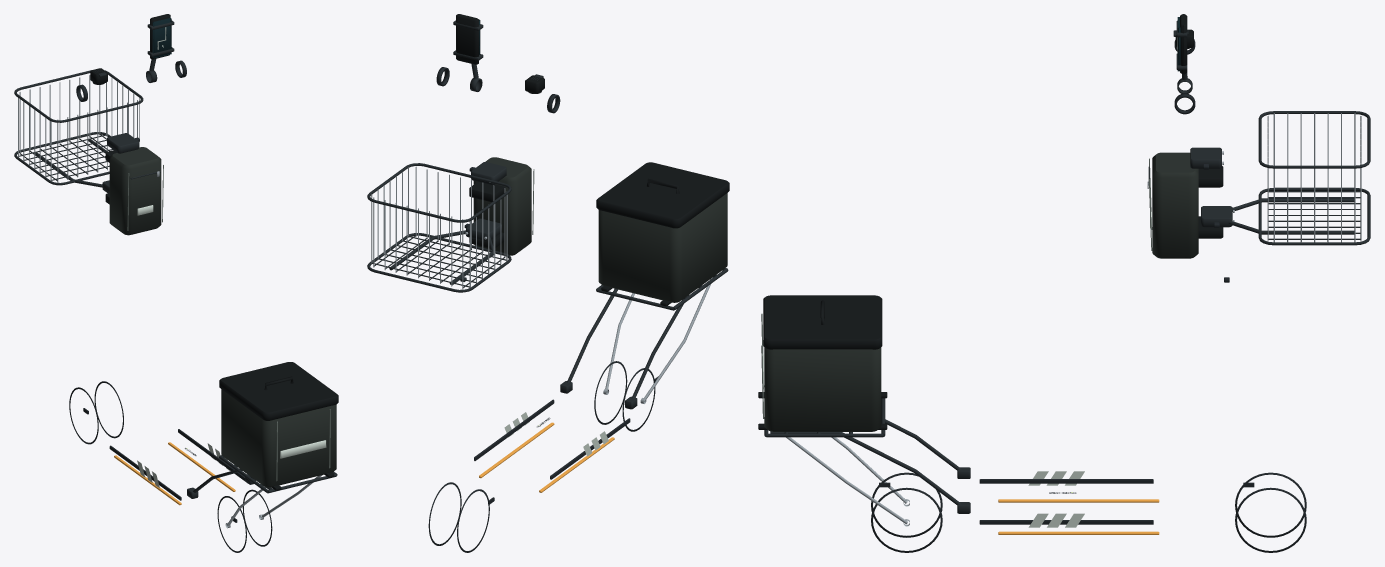
The model's file is extras.glb.
The picture shows the model from 3 angles, left to right: view 1: azimuth 30°, elevation 25°; view 2: azimuth 150°, elevation 25°; view 3: azimuth 270°, elevation 25°; orthographic projection. The views are drawn at different scales.
Visible parts, largest first — view 1: SX_delivery, SX_basket, SX_stem_bag, SX_rack, SX_phone_mount, SX_trim_black_deck, SX_light_amber, SX_trim_black_front, SX_trim_black_rear; view 2: SX_delivery, SX_basket, SX_stem_bag, SX_rack, SX_phone_mount, SX_trim_black_deck, SX_light_amber, SX_trim_black_front, SX_trim_black_rear, SX_trim_black_grip; view 3: SX_delivery, SX_basket, SX_stem_bag, SX_rack, SX_trim_black_deck, SX_light_amber, SX_trim_black_front, SX_trim_black_rear, SX_stripes, SX_phone_mount.
Part boxes in pixels (box(x1,y1,x2,y2)): SX_delivery: box(219, 362, 338, 490); SX_basket: box(14, 70, 143, 194); SX_stem_bag: box(105, 147, 163, 235); SX_rack: box(187, 455, 337, 528); SX_phone_mount: box(146, 14, 174, 82); SX_trim_black_deck: box(83, 408, 244, 522); SX_light_amber: box(114, 442, 235, 505); SX_trim_black_front: box(69, 381, 123, 444); SX_trim_black_rear: box(217, 489, 272, 552); SX_delivery: box(596, 162, 729, 306); SX_basket: box(367, 162, 511, 292); SX_stem_bag: box(469, 157, 534, 255); SX_rack: box(560, 268, 728, 409); SX_phone_mount: box(453, 14, 483, 91); SX_trim_black_deck: box(474, 376, 658, 504); SX_light_amber: box(479, 422, 614, 492); SX_trim_black_front: box(428, 482, 489, 552); SX_trim_black_rear: box(594, 361, 655, 431); SX_trim_black_grip: box(436, 67, 560, 281); SX_delivery: box(758, 295, 887, 431); SX_basket: box(1190, 111, 1370, 245); SX_stem_bag: box(1147, 152, 1223, 258); SX_rack: box(764, 398, 970, 526); SX_trim_black_deck: box(879, 479, 1254, 524); SX_light_amber: box(998, 499, 1159, 534); SX_trim_black_front: box(1235, 472, 1306, 552); SX_trim_black_rear: box(871, 472, 942, 552); SX_stripes: box(1028, 471, 1084, 527); SX_phone_mount: box(1176, 14, 1192, 93).
Bounding box in the file's own units: 0.3619 × 1.49 × 1.52.
16 materials, 16 textured.
